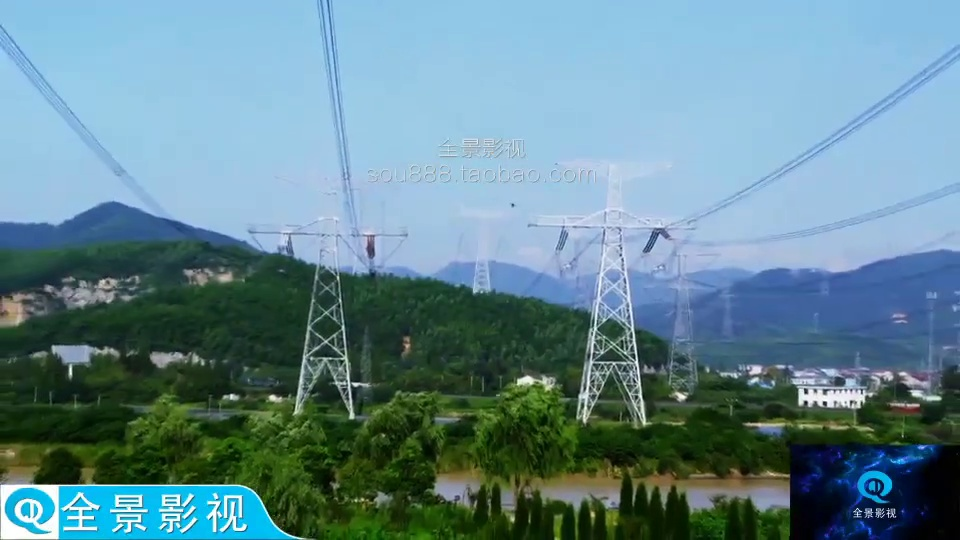tower_body: (531, 152, 700, 428), (254, 170, 408, 429)
tower_foot: (296, 355, 359, 421), (578, 368, 653, 422)
tower_head: (551, 158, 677, 188)
